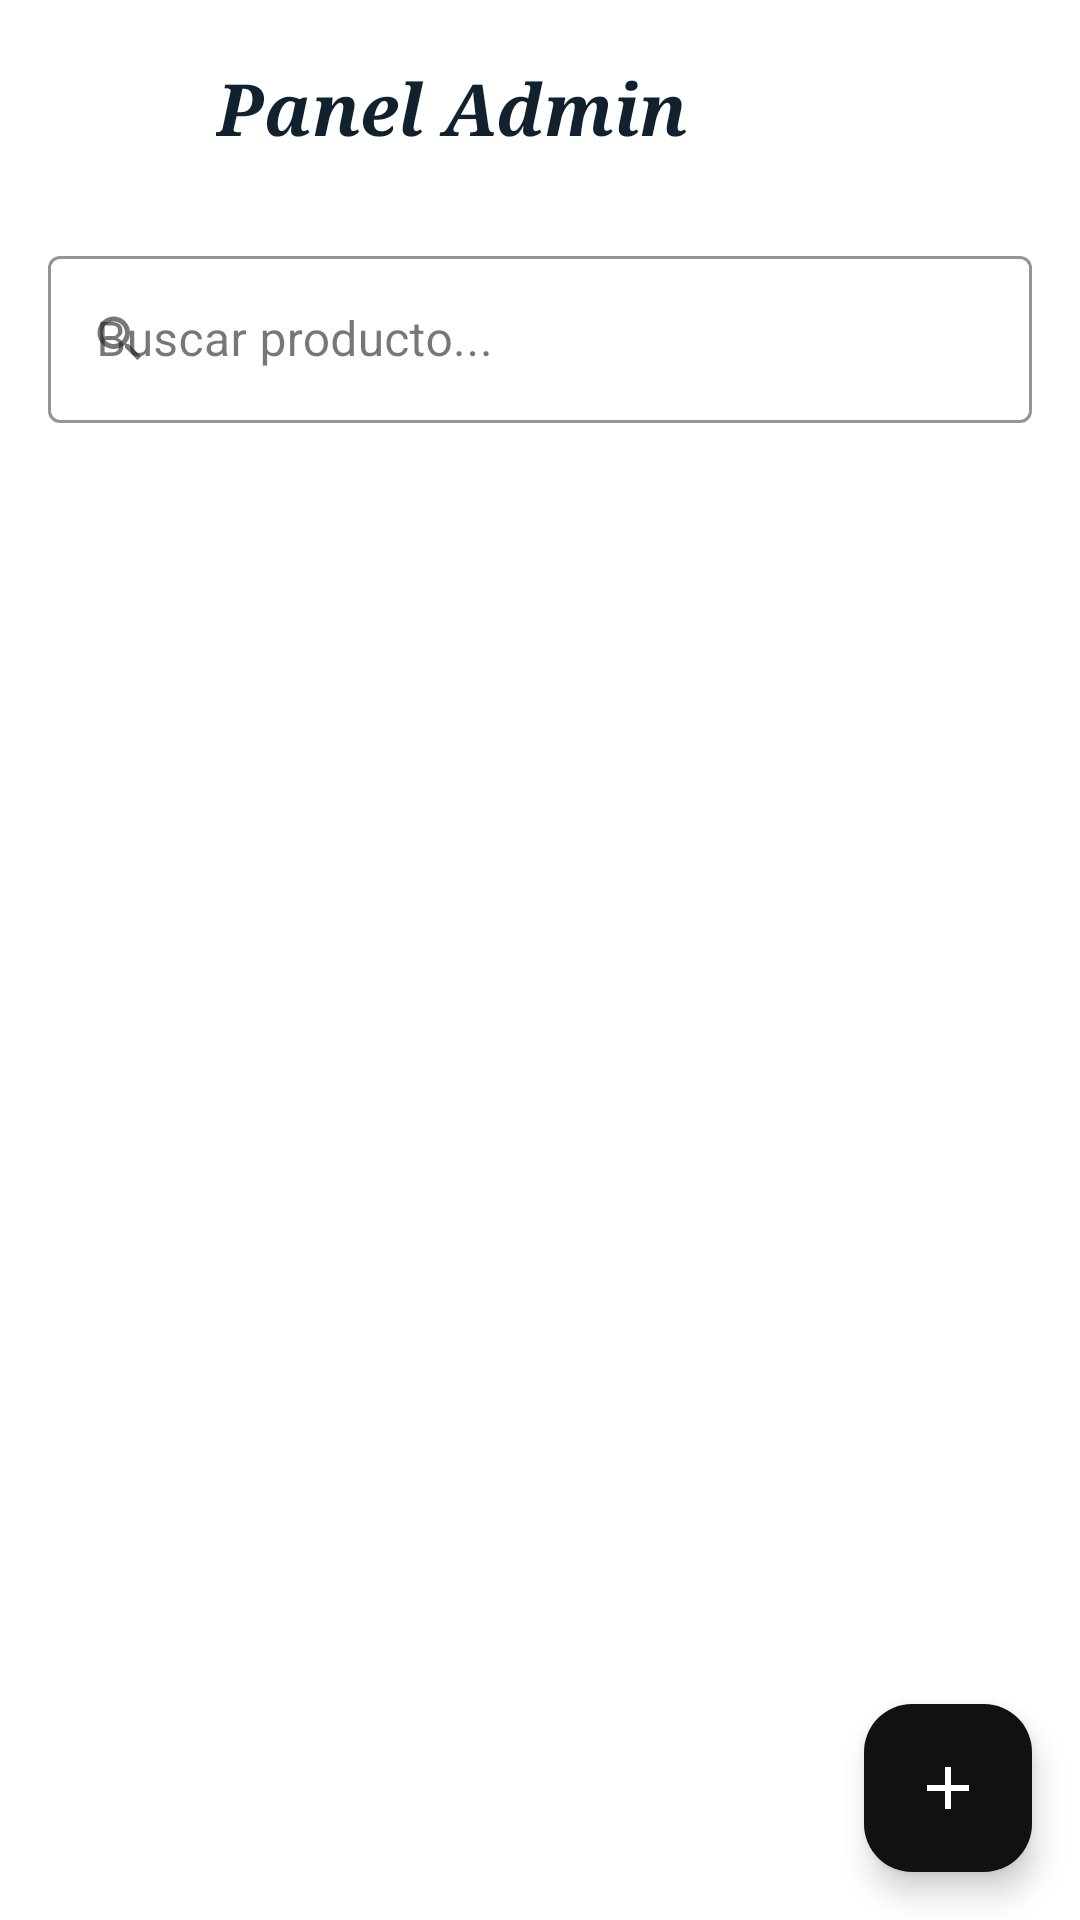

Point at icon controls on the screen. Image size 1080 x 1920, points as [x,y].
Agregar producto: [948,1788]
